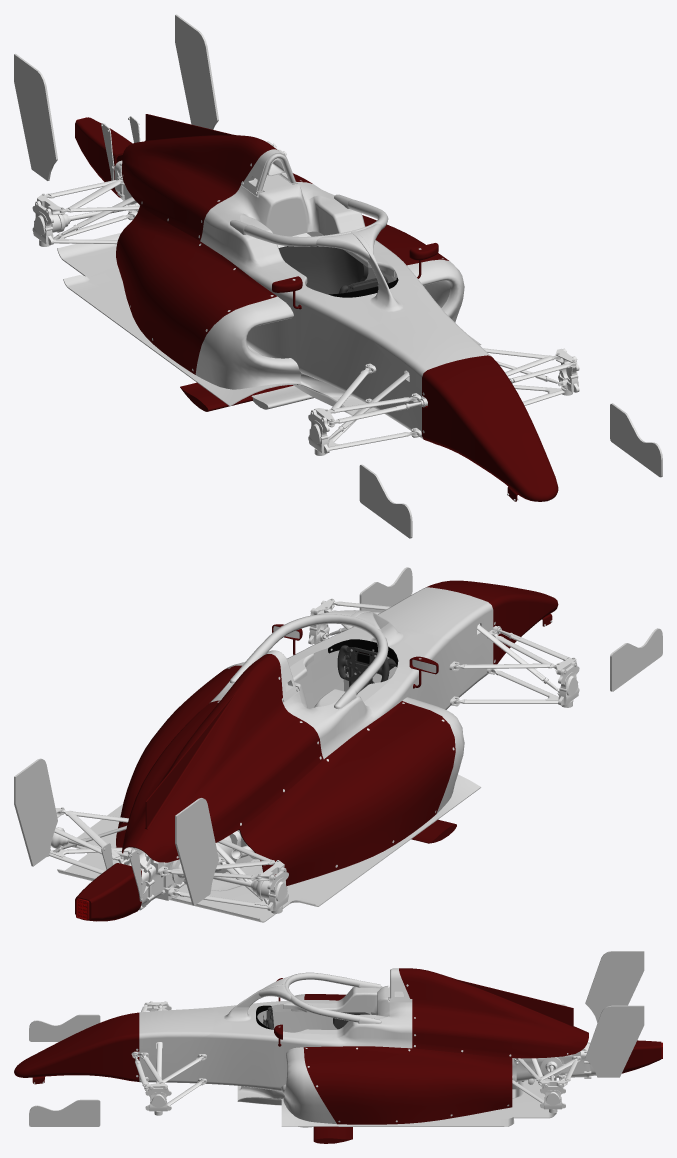
3 views of the same model, one above another, from view 1: azimuth 30°, elevation 25°; view 2: azimuth 150°, elevation 25°; view 3: azimuth 270°, elevation 25° (orthographic). The views are drawn at different scales.
Parts seen in each view (by area): view 1: fr04_monocoque, fr04_sidepod_RR, fr04_nose, fr04_enginecover, fr04_floor, fr04_sidepod_FR, fr04_headrest, fr04_suscover, fr04_endplate_RR, fr04_endplate_RL, fr04_halo, fr04_seat (+13 smaller); view 2: fr04_sidepod_RR, fr04_enginecover, fr04_monocoque, fr04_floor, fr04_suscover, fr04_nose, fr04_endplate_RL, fr04_endplate_RR, fr04_halo, fr04_sidepod_RL, fr04_crashbox, fr04_transaxle (+17 smaller); view 3: fr04_sidepod_RL, fr04_monocoque, fr04_enginecover, fr04_nose, fr04_floor, fr04_endplate_RL, fr04_endplate_RR, fr04_suscover, fr04_sidepod_FL, fr04_halo, fr04_headrest, fr04_endplate_FL (+9 smaller).
Boxes of the visible parts, left/top/right/bottom form: fr04_monocoque: left=200, top=174, right=445, bottom=439; fr04_sidepod_RR: left=116, top=205, right=276, bottom=374; fr04_nose: left=422, top=355, right=558, bottom=501; fr04_enginecover: left=122, top=114, right=312, bottom=240; fr04_floor: left=57, top=233, right=481, bottom=415; fr04_sidepod_FR: left=195, top=296, right=301, bottom=389; fr04_headrest: left=240, top=183, right=394, bottom=288; fr04_suscover: left=368, top=311, right=491, bottom=390; fr04_endplate_RR: left=14, top=53, right=57, bottom=180; fr04_endplate_RL: left=175, top=14, right=218, bottom=129; fr04_halo: left=230, top=194, right=389, bottom=289; fr04_seat: left=278, top=246, right=368, bottom=294; fr04_sidepod_RR: left=238, top=701, right=455, bottom=886; fr04_enginecover: left=122, top=654, right=323, bottom=862; fr04_monocoque: left=210, top=622, right=493, bottom=758; fr04_floor: left=57, top=774, right=480, bottom=922; fr04_suscover: left=378, top=587, right=493, bottom=639; fr04_nose: left=425, top=580, right=558, bottom=664; fr04_endplate_RL: left=14, top=758, right=57, bottom=866; fr04_endplate_RR: left=175, top=798, right=218, bottom=905; fr04_halo: left=230, top=610, right=389, bottom=709; fr04_sidepod_RL: left=116, top=665, right=241, bottom=847; fr04_crashbox: left=75, top=863, right=141, bottom=921; fr04_transaxle: left=119, top=832, right=239, bottom=910; fr04_sidepod_RL: left=303, top=1046, right=512, bottom=1124; fr04_monocoque: left=139, top=986, right=412, bottom=1091; fr04_enginecover: left=399, top=968, right=588, bottom=1058; fr04_nose: left=14, top=1012, right=139, bottom=1084; fr04_floor: left=237, top=1078, right=556, bottom=1126; fr04_endplate_RL: left=585, top=1005, right=644, bottom=1077; fr04_endplate_RR: left=585, top=951, right=644, bottom=1022; fr04_suscover: left=139, top=1007, right=214, bottom=1048; fr04_sidepod_FL: left=281, top=1047, right=336, bottom=1123; fr04_halo: left=235, top=972, right=381, bottom=1023; fr04_headrest: left=283, top=986, right=389, bottom=1034; fr04_endplate_FL: left=29, top=1099, right=100, bottom=1126.
Bounding box in the file's own units: 1.44 × 4.5 × 1.01.
